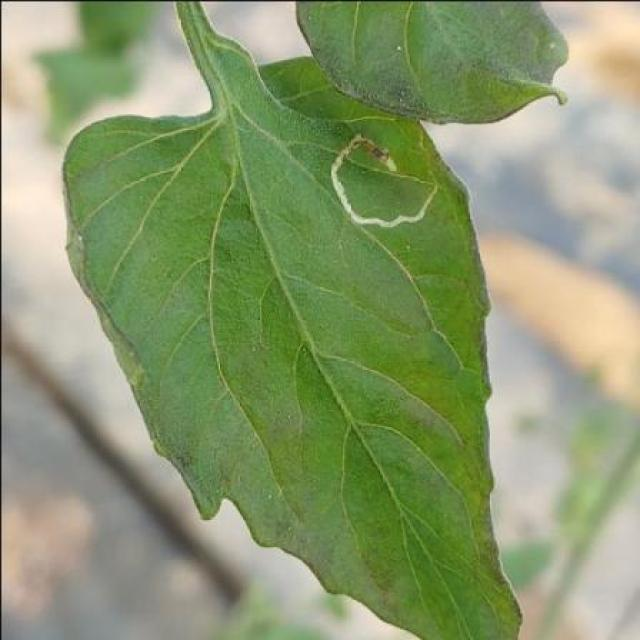Leaf Miner: (59, 52, 522, 637)
